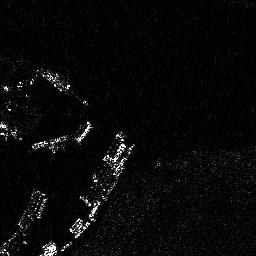ship: (31, 135, 69, 150)
